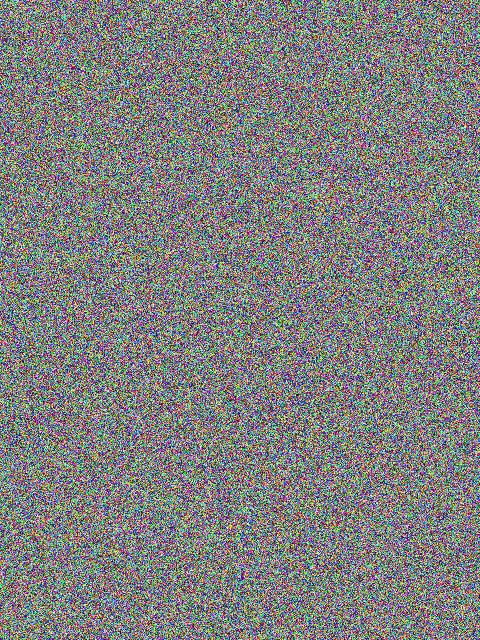diningtable: (251, 36, 357, 182)
dog: (274, 407, 399, 457)
